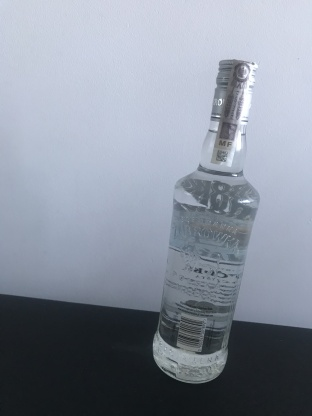nakretka: (207, 55, 260, 128)
